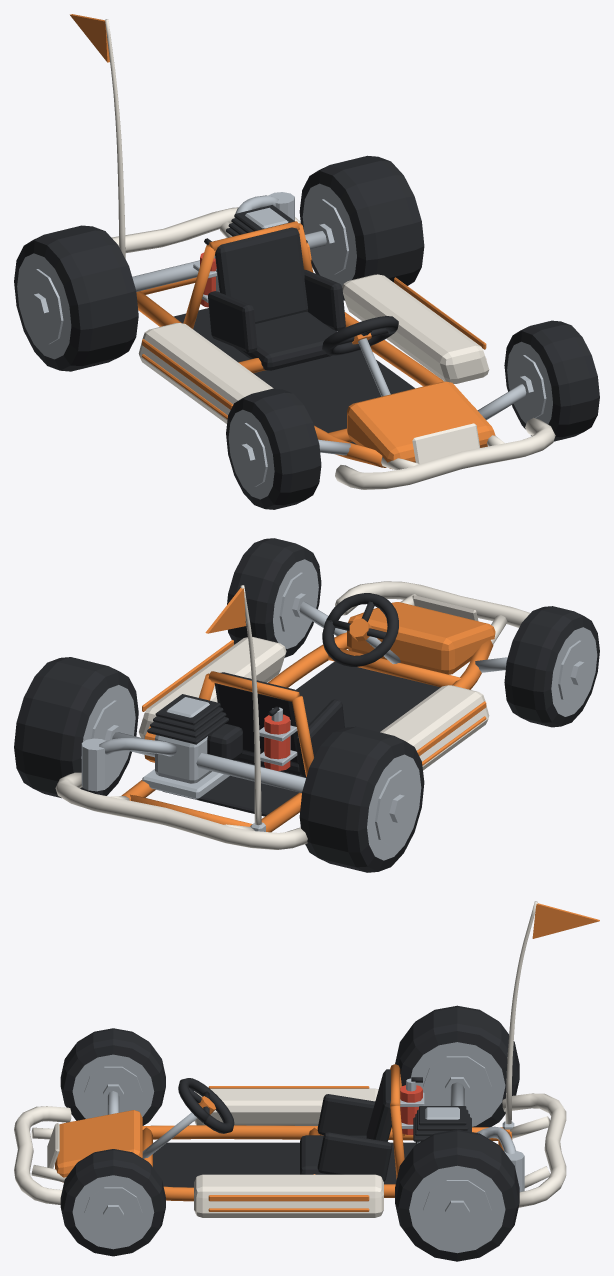
The model's file is orange-go-kart.glb.
The picture shows the model from 3 angles, top to bottom: view 1: azimuth 30°, elevation 25°; view 2: azimuth 150°, elevation 25°; view 3: azimuth 270°, elevation 25°; orthographic projection. The views are drawn at different scales.
Parts seen in each view (by area): view 1: Wheel_RL, Wheel_RR, Wheel_FL, Wheel_FR, SidePod_R, Nose, Floor_Pan, Seat_Back, SidePod_L, Front_Bumper, Seat_Base, Seat_Bolster_L (+13 smaller); view 2: Wheel_RL, Wheel_RR, Wheel_FL, Floor_Pan, Wheel_FR, Nose, Rear_Bumper, SidePod_L, SidePod_R, Steering_Wheel, Seat_Back, Front_Bumper (+25 smaller); view 3: Wheel_RR, Wheel_RL, Wheel_FR, Wheel_FL, SidePod_R, Floor_Pan, SidePod_L, Nose, Seat_Bolster_R, Rear_Bumper, Front_Bumper, Frame_Rail_L (+15 smaller).
Boxes of the visible parts, x1=… form: Wheel_RL: x1=14, y1=225, x2=138, y2=371; Wheel_RR: x1=299, y1=155, x2=424, y2=300; Wheel_FL: x1=226, y1=388, x2=321, y2=509; Wheel_FR: x1=504, y1=320, x2=599, y2=441; SidePod_R: x1=342, y1=274, x2=489, y2=383; Nose: x1=347, y1=381, x2=495, y2=469; Floor_Pan: x1=173, y1=308, x2=414, y2=444; Seat_Back: x1=215, y1=227, x2=307, y2=323; SidePod_L: x1=138, y1=323, x2=273, y2=423; Front_Bumper: x1=335, y1=417, x2=555, y2=489; Seat_Base: x1=234, y1=312, x2=335, y2=370; Seat_Bolster_L: x1=208, y1=291, x2=257, y2=352; Wheel_RL: x1=299, y1=726, x2=424, y2=872; Wheel_RR: x1=14, y1=657, x2=138, y2=798; Wheel_FL: x1=504, y1=606, x2=599, y2=727; Floor_Pan: x1=163, y1=661, x2=440, y2=816; Wheel_FR: x1=227, y1=538, x2=321, y2=657; Nose: x1=347, y1=602, x2=495, y2=674; Rear_Bumper: x1=55, y1=772, x2=307, y2=849; SidePod_L: x1=380, y1=685, x2=489, y2=770; SidePod_R: x1=139, y1=637, x2=286, y2=738; Steering_Wheel: x1=322, y1=593, x2=398, y2=666; Seat_Back: x1=214, y1=672, x2=298, y2=764; Front_Bumper: x1=335, y1=581, x2=530, y2=627; Wheel_RR: x1=395, y1=1129, x2=519, y2=1261; Wheel_RL: x1=395, y1=1005, x2=519, y2=1127; Wheel_FR: x1=60, y1=1149, x2=165, y2=1256; Wheel_FL: x1=60, y1=1028, x2=165, y2=1125; SidePod_R: x1=194, y1=1174, x2=383, y2=1217; Floor_Pan: x1=153, y1=1142, x2=416, y2=1187; SidePod_L: x1=194, y1=1088, x2=378, y2=1125; Nose: x1=55, y1=1110, x2=142, y2=1182; Seat_Bolster_R: x1=317, y1=1132, x2=391, y2=1181; Rear_Bumper: x1=502, y1=1093, x2=566, y2=1207; Front_Bumper: x1=14, y1=1106, x2=71, y2=1204; Frame_Rail_L: x1=142, y1=1125, x2=512, y2=1140.
Size of the model in its own units: 5.1 by 3.9 by 8.01.
